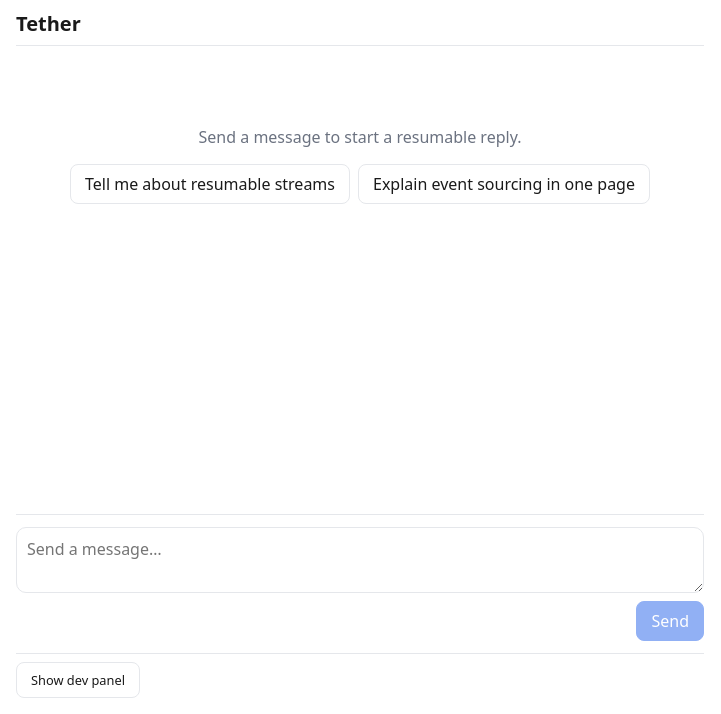
Test: App › sends a message, streams the reply, and shows it completed
The width and height of the screenshot is (721, 714).
Type "hi" into the text box at (360, 560), box [16,527,704,593]
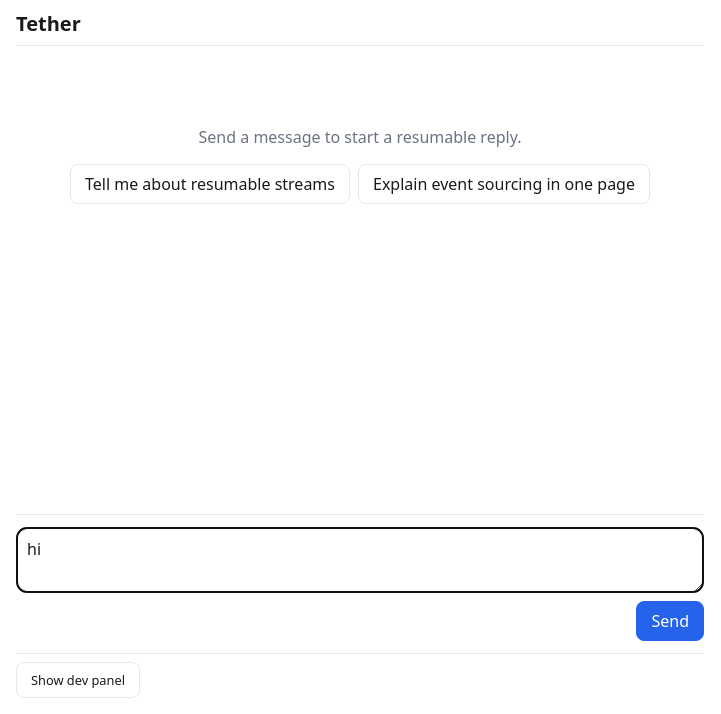
Click the button "Send" at (670, 621), box [636,601,704,641]
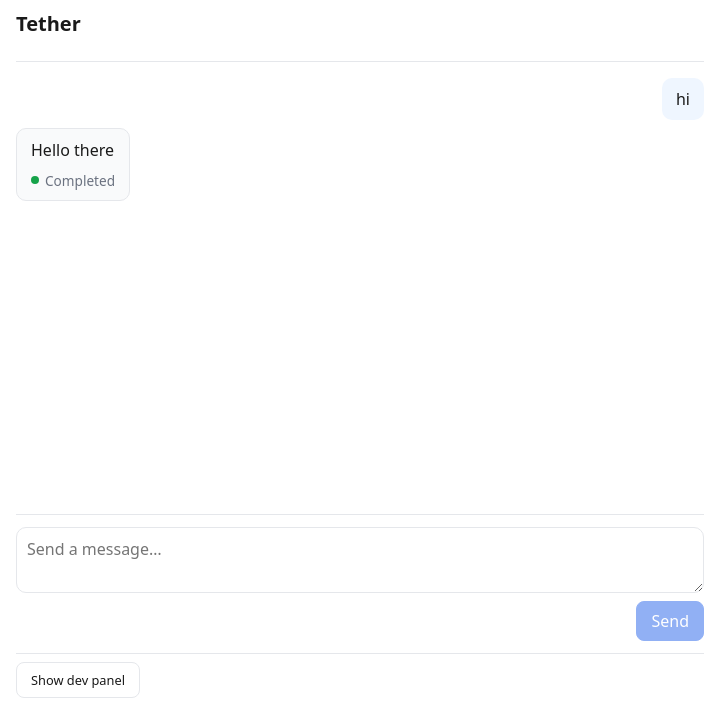
Check: the text "hi" is shown, box [662,78,704,120]
Check: the text "Hello there" is shown, box [31,139,115,161]
Check: the text "Completed" is shown, box [31,170,115,190]
